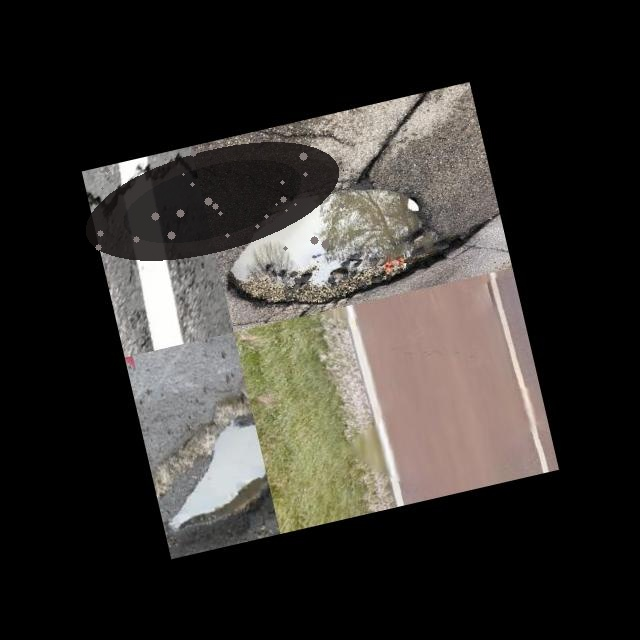pothole: (77, 146, 347, 256)
